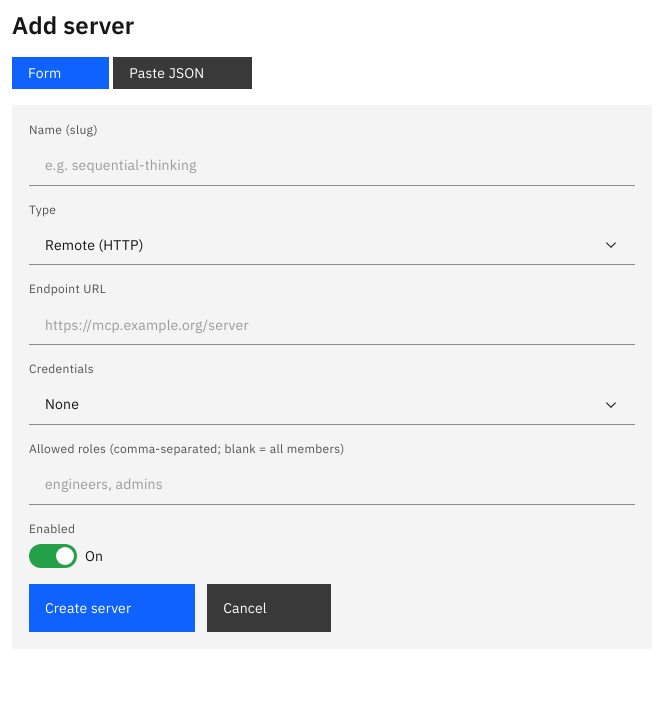
Test: ServerForm › shows a validation error when the name is empty
The width and height of the screenshot is (669, 706).
Click the button "Create server". click: (112, 608)
box: [29, 584, 195, 632]
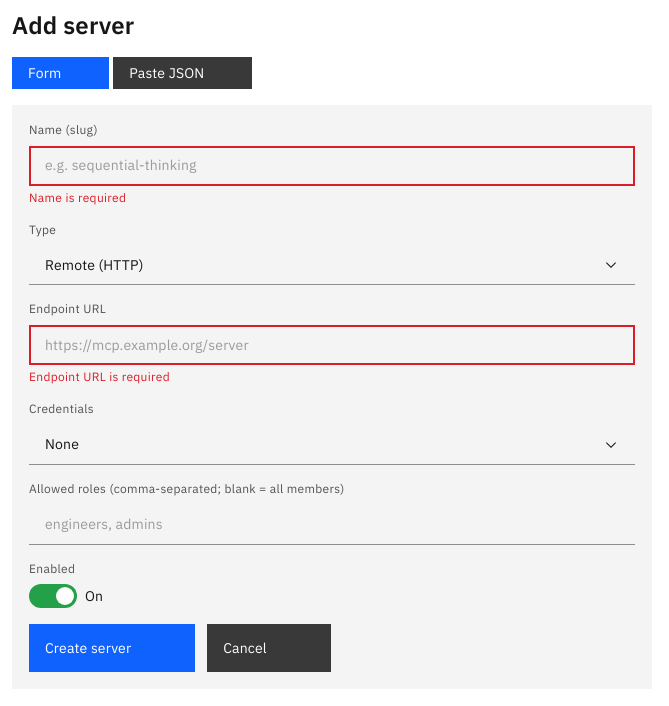
Expected: the text "Name is required" is shown, [29, 190, 126, 205]
